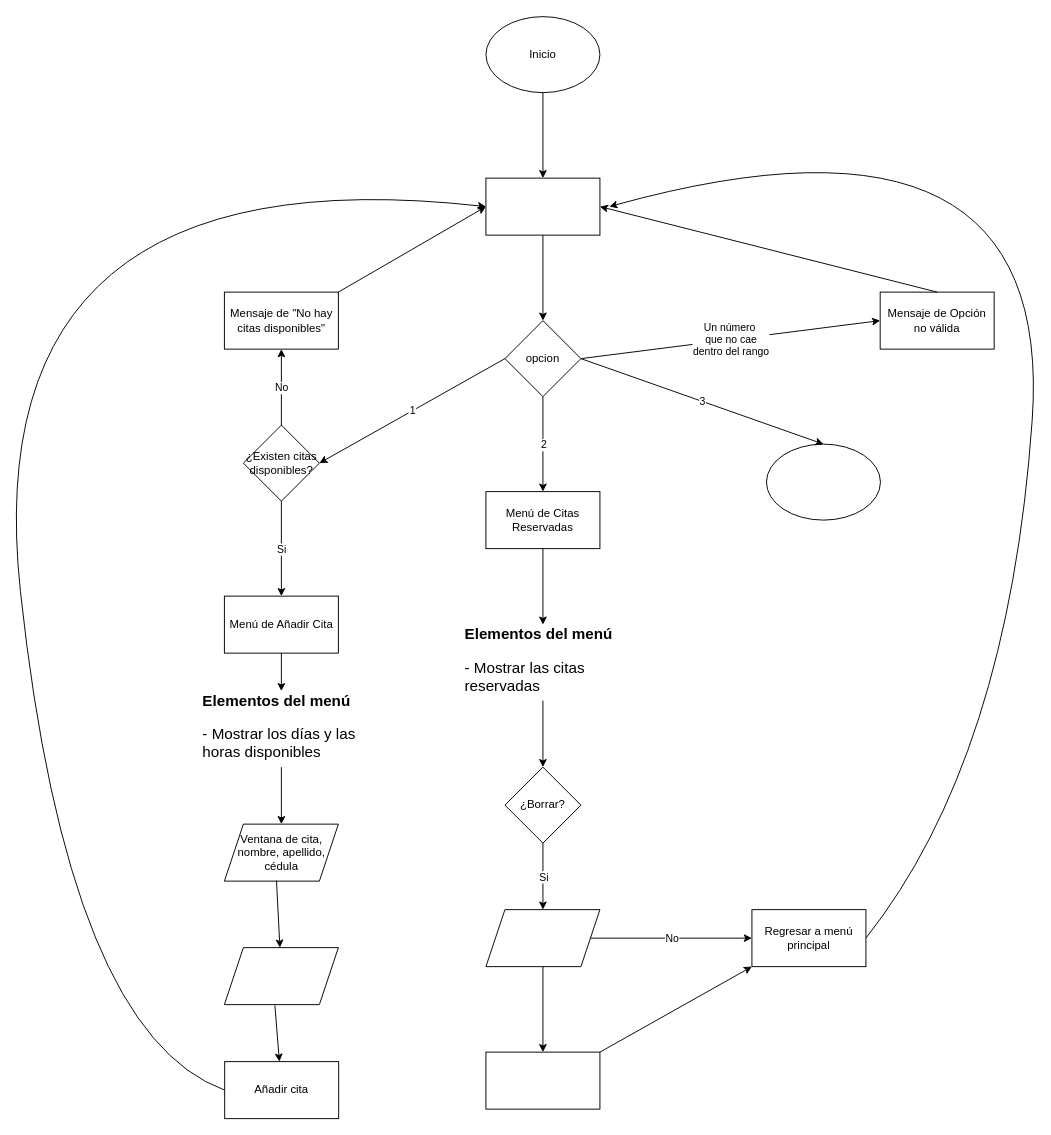
The diagram is 1051 pixels wide and 1135 high, and some of its shapes have lost their labels. The shapes that lost their labels are listed below. From the top down, each one's centre as x and y in pixels, then its label:
At (542,206): "Menú Principal".
At (823,481): "Terminar el programa".
At (542,938): "Cita".
At (280,976): "Ingreso de tipo de servicio a usar".
At (542,1080): "Eliminar cita".
